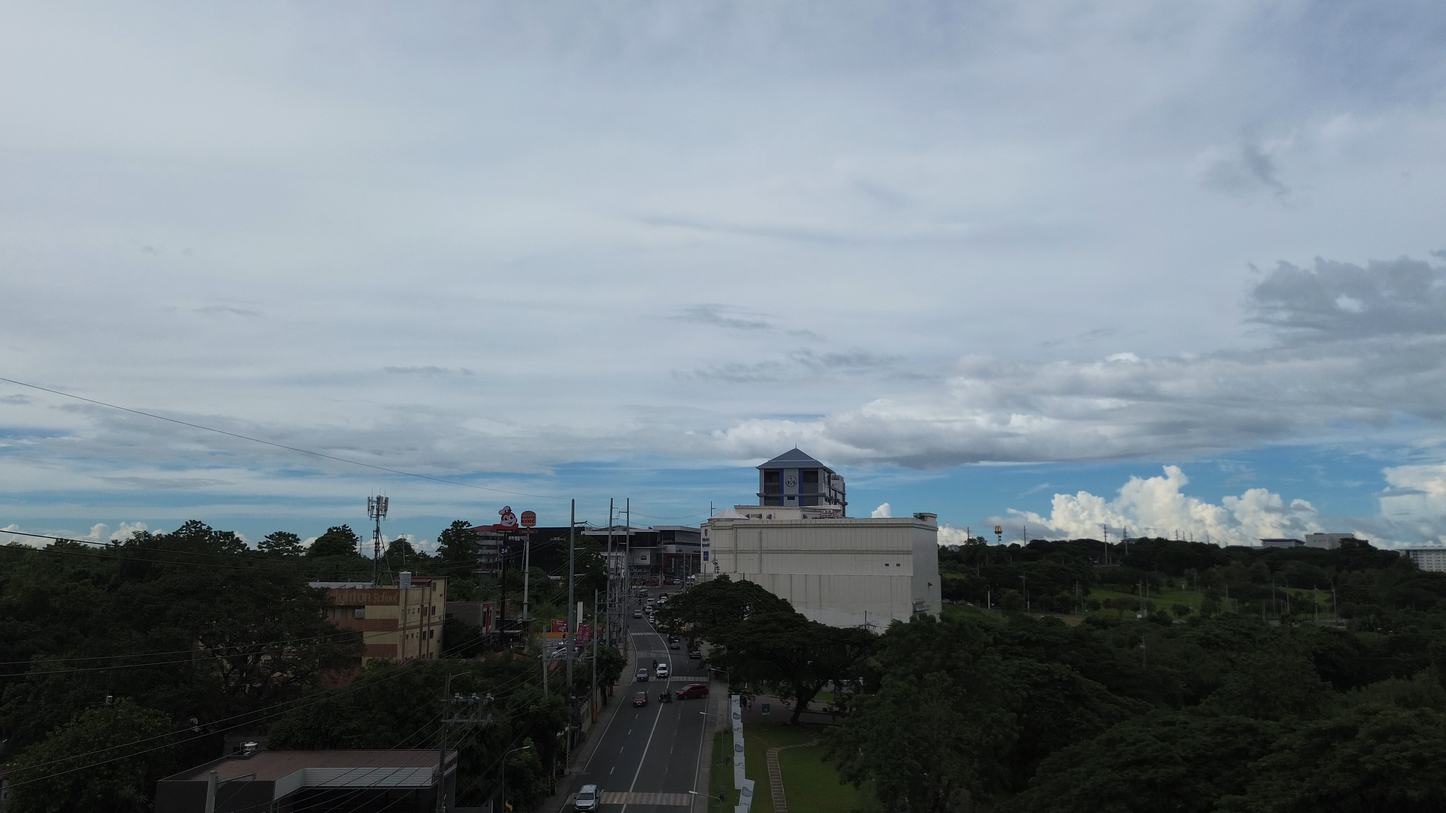car: (675, 684, 708, 699), (654, 663, 670, 679), (633, 692, 647, 706), (636, 667, 649, 682), (689, 649, 702, 659), (668, 641, 680, 649), (633, 610, 643, 618)
vehicle: (574, 784, 598, 811), (659, 690, 672, 702), (645, 603, 655, 613)
